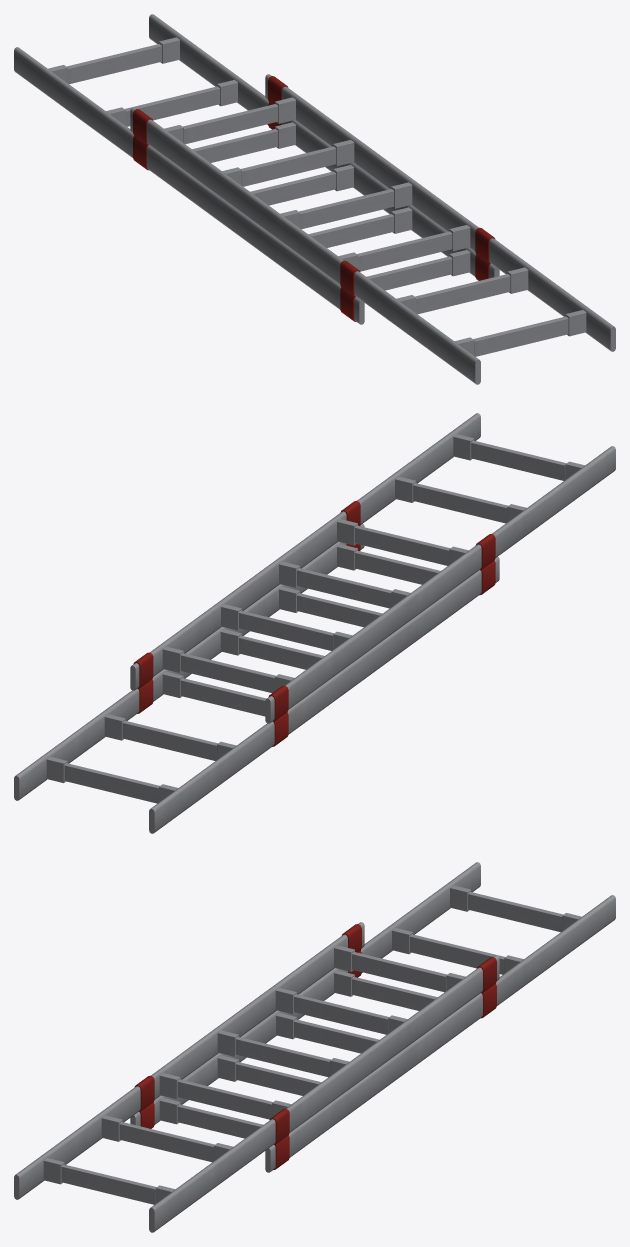
File: echelle_coulissante.glb
3 views of the same model, one above another, from view 1: azimuth 30°, elevation 25°; view 2: azimuth 150°, elevation 25°; view 3: azimuth 330°, elevation 25° (orthographic).
Visible parts, largest first — view 1: Extendable_Staircase; view 2: Extendable_Staircase; view 3: Extendable_Staircase.
Boxes of the visible parts, x1,y1,x2,y2 form: Extendable_Staircase: [14, 14, 615, 384]; Extendable_Staircase: [14, 413, 615, 833]; Extendable_Staircase: [14, 862, 615, 1232].
Bounding box in the file's own units: 0.476 × 0.1665 × 2.67.
1 material, 1 textured.
